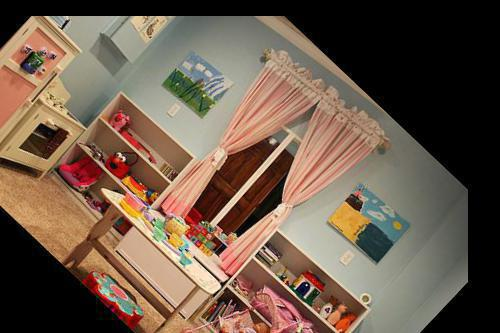Otro Obstaculo: (182, 266, 305, 333)
